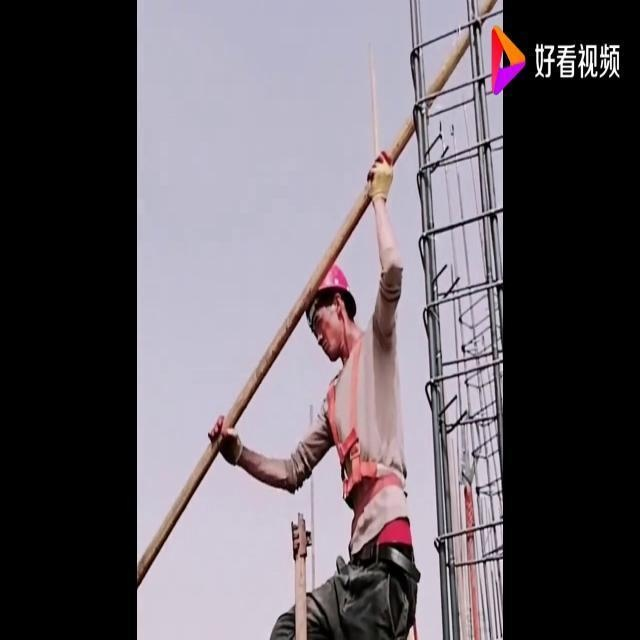Arnes_seguridad: (322, 319, 411, 507)
